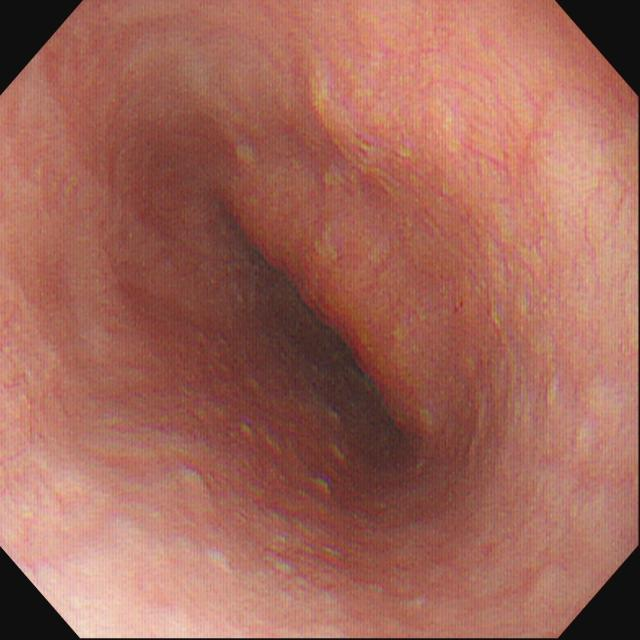E: (237, 220, 398, 427)
